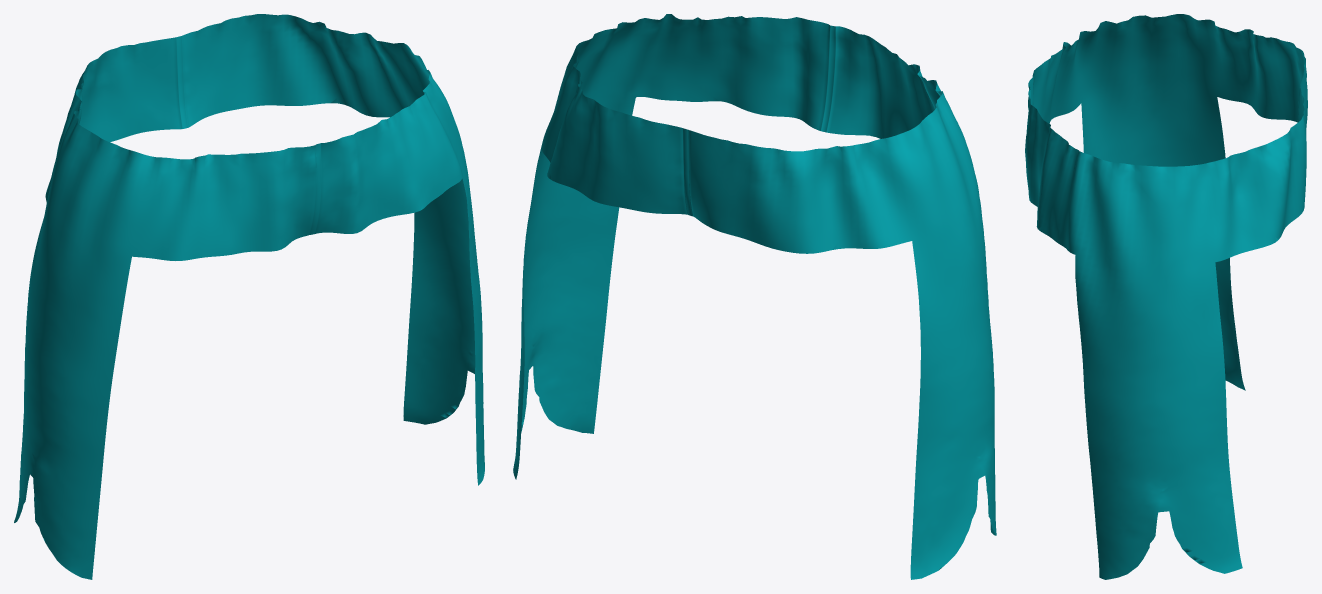
Rendered from BX_4_JOSHUA_CURVED_2.glb.
The picture shows the model from 3 angles, left to right: view 1: azimuth 30°, elevation 25°; view 2: azimuth 150°, elevation 25°; view 3: azimuth 270°, elevation 25°; orthographic projection. The views are drawn at different scales.
Visible parts, largest first — view 1: BX_4_JOSHUA_CURVED_2; view 2: BX_4_JOSHUA_CURVED_2; view 3: BX_4_JOSHUA_CURVED_2.
Boxes of the visible parts, left/top/right/bottom form: BX_4_JOSHUA_CURVED_2: left=14, top=14, right=484, bottom=579; BX_4_JOSHUA_CURVED_2: left=513, top=14, right=996, bottom=579; BX_4_JOSHUA_CURVED_2: left=1025, top=14, right=1307, bottom=579.
Size of the model in its own units: 5.01 by 4.59 by 2.91.
